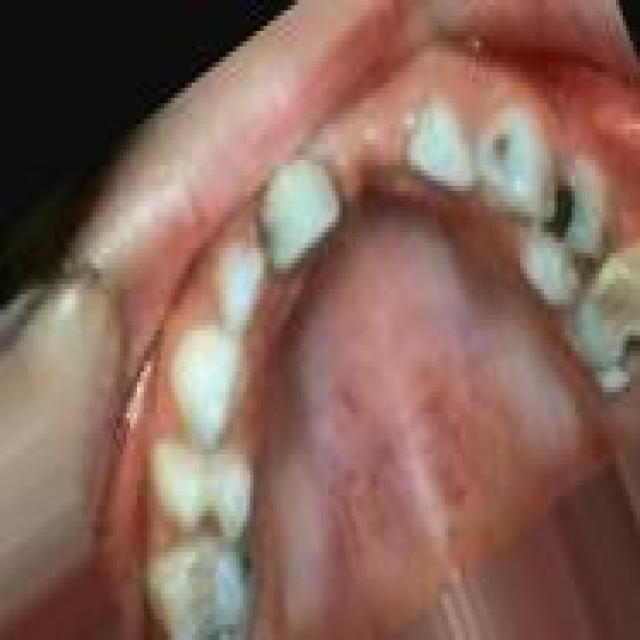caries: (527, 159, 602, 289), (207, 532, 269, 622), (482, 112, 538, 204), (594, 287, 640, 395)
